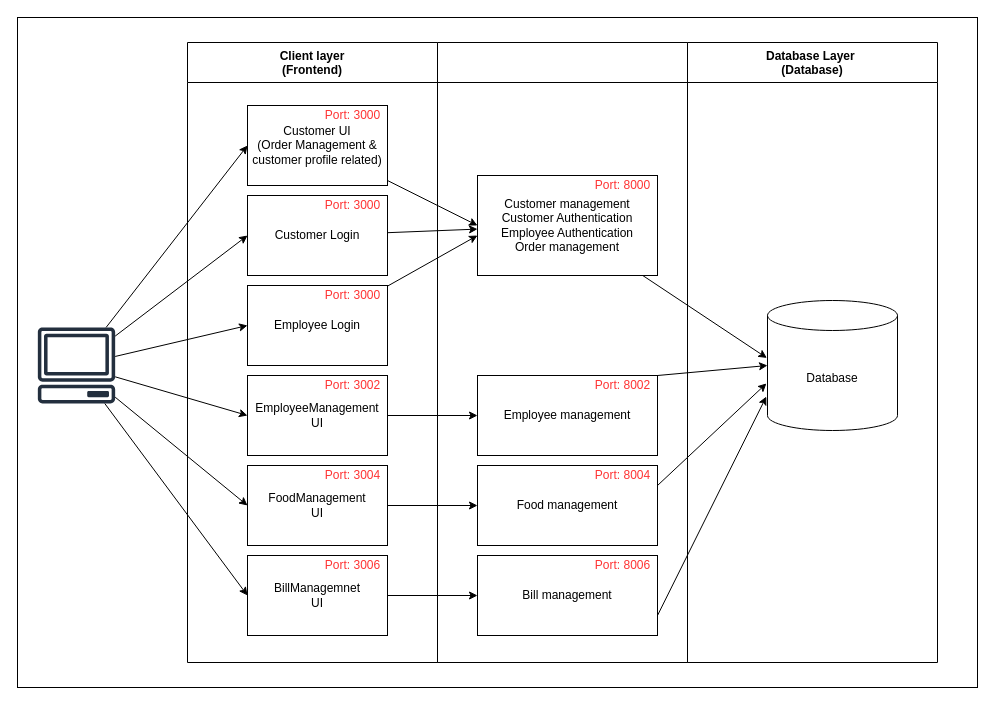
Image size: 995x705. Some labels were removed from this diagram. The shapes that lost their labels are listed below. From the top down, each one's centre as x and y in pixels, then its label:
the point at 76,365: client
the point at 562,352: Application Layer (Backend)
